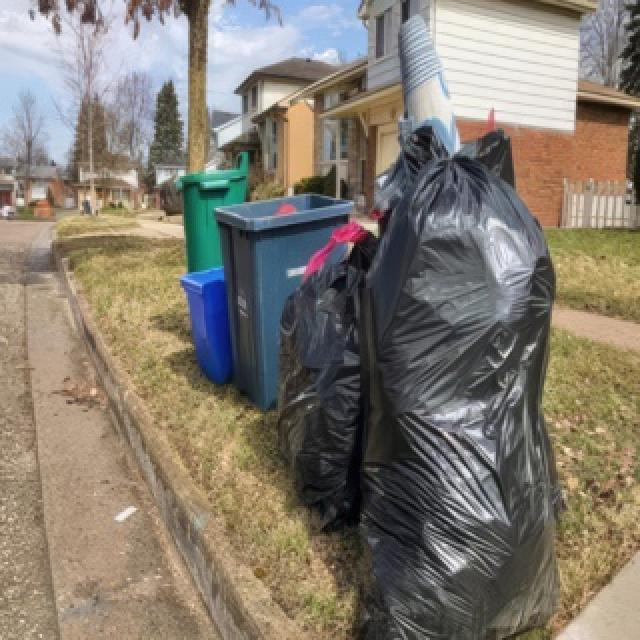Trashbag: (357, 190, 578, 640), (261, 246, 370, 538)
